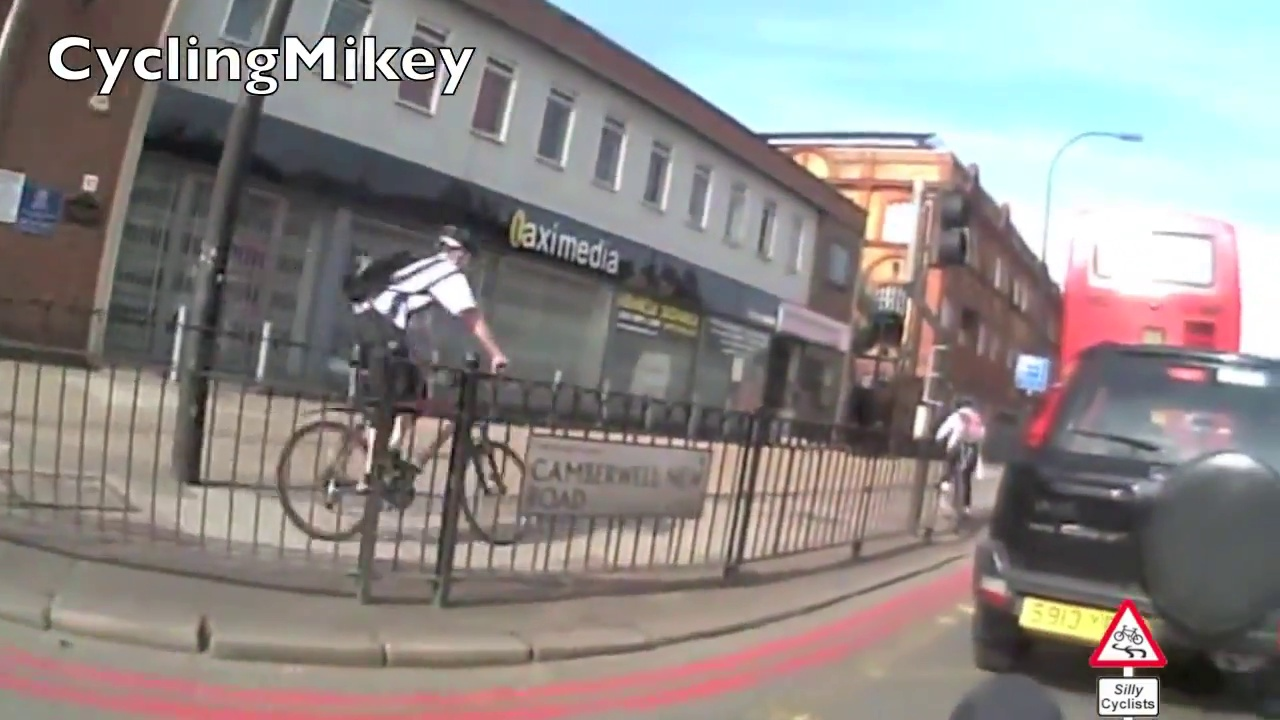cyclist_side: (276, 214, 543, 547)
